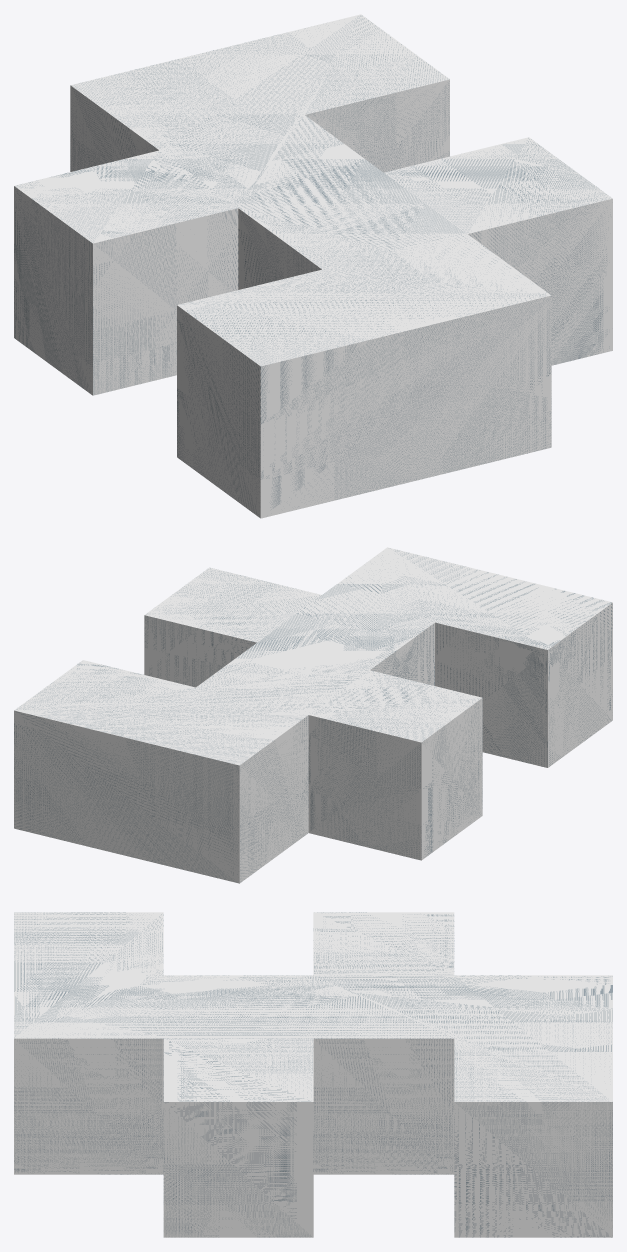
The model's file is KeyFrag6.fbx.
The picture shows the model from 3 angles, top to bottom: view 1: azimuth 30°, elevation 25°; view 2: azimuth 150°, elevation 25°; view 3: azimuth 270°, elevation 25°; orthographic projection. The views are drawn at different scales.
Visible parts, largest first — view 1: Model; view 2: Model; view 3: Model.
Boxes of the visible parts, box(x1,y1,x2,y2) form: Model: box(14, 14, 612, 518); Model: box(14, 547, 612, 883); Model: box(14, 912, 612, 1237).
Size of the model in its own units: 75 by 25 by 100.
